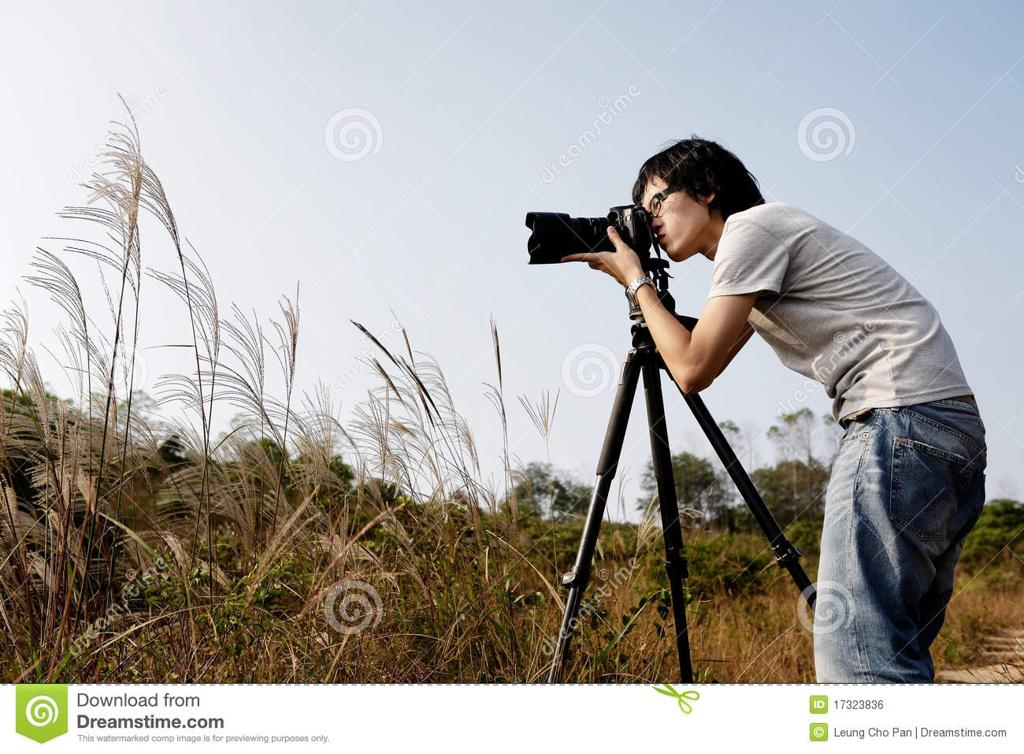face: (636, 172, 694, 256)
